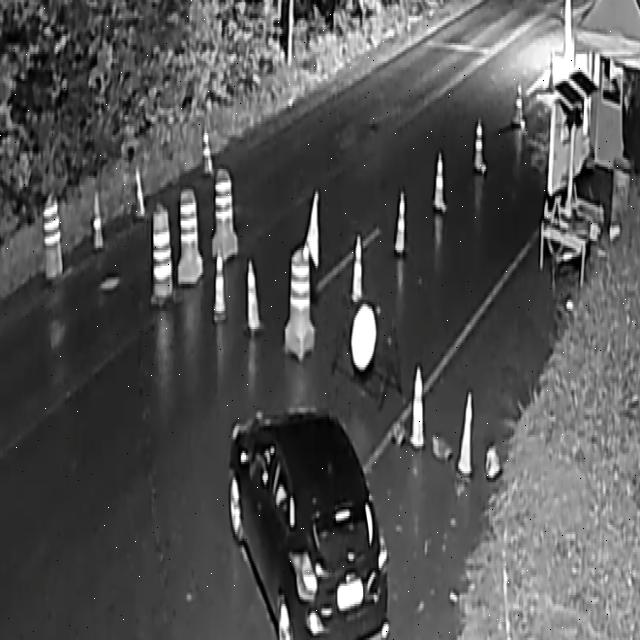big_cone: (178, 186, 202, 282), (290, 246, 311, 354), (41, 191, 64, 283), (152, 202, 172, 304), (214, 165, 235, 260)
small_cone: (457, 385, 475, 480), (412, 359, 426, 452), (246, 256, 261, 334), (433, 148, 449, 217), (352, 228, 365, 304), (394, 187, 408, 256), (214, 251, 227, 323), (91, 188, 104, 256), (473, 118, 488, 176), (133, 164, 146, 219), (202, 121, 214, 177)
